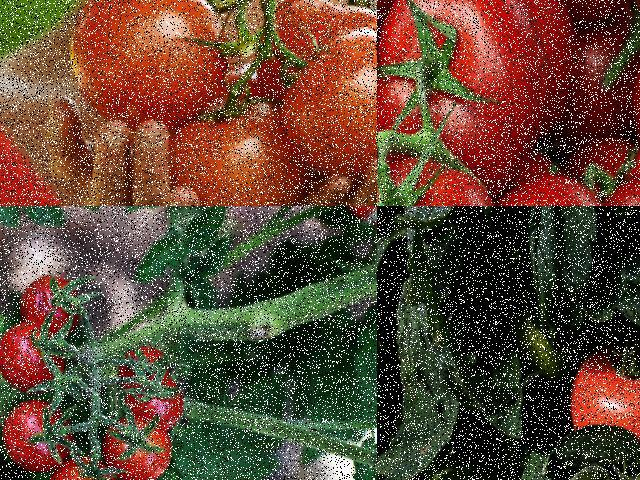tomato: (381, 0, 547, 185), (56, 0, 227, 124), (286, 25, 376, 185), (165, 100, 300, 205), (245, 0, 376, 102), (573, 356, 639, 467), (99, 414, 193, 479), (120, 373, 192, 440), (0, 328, 66, 398), (4, 408, 72, 472), (27, 275, 88, 336), (627, 25, 639, 140), (54, 460, 123, 479)
